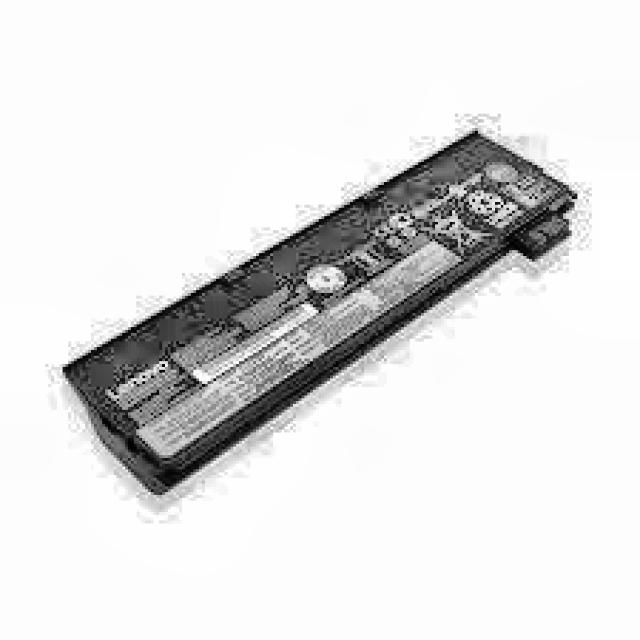Battery: (66, 139, 574, 492)
